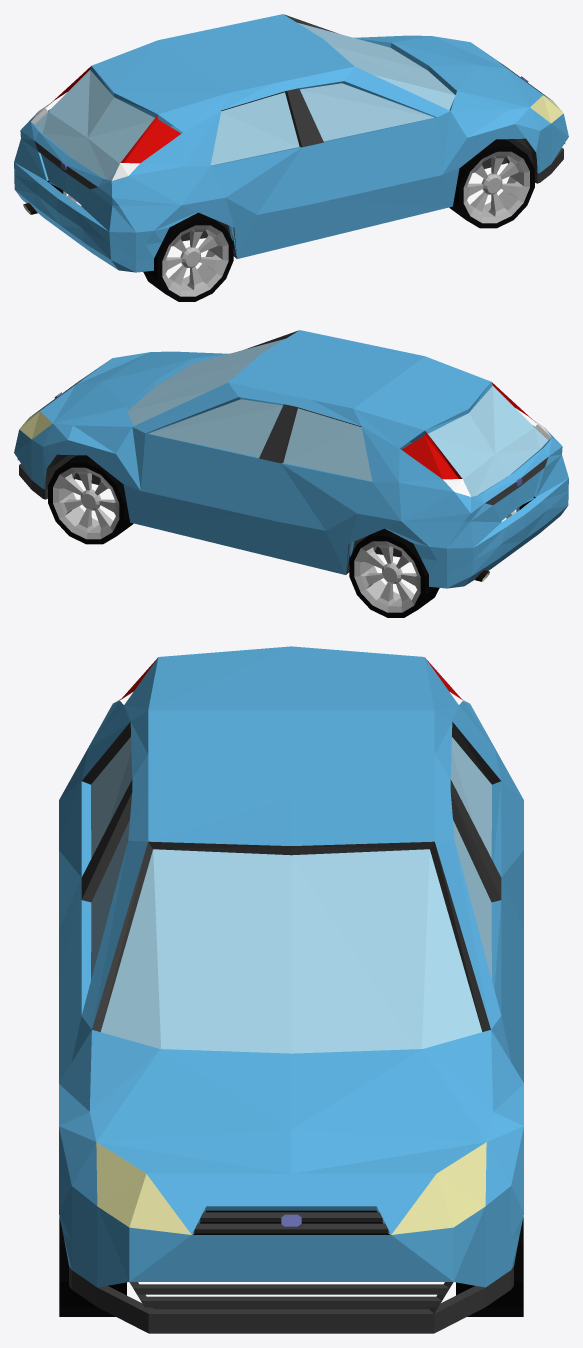
The model's file is Ford_Focus_Low_Poly.glb.
3 views of the same model, one above another, from view 1: azimuth 30°, elevation 25°; view 2: azimuth 150°, elevation 25°; view 3: azimuth 270°, elevation 25° (orthographic). The views are drawn at different scales.
Parts seen in each view (by area): view 1: Body_0, WheelR_5, WheelFR_8; view 2: Body_0, WheelR_5, WheelFL_4; view 3: Body_0, WheelFL_4, WheelFR_8.
Part boxes in pixels (bbox=[...]): Body_0: bbox=[14, 14, 568, 272]; WheelR_5: bbox=[47, 180, 233, 301]; WheelFR_8: bbox=[449, 139, 534, 228]; Body_0: bbox=[14, 330, 568, 588]; WheelR_5: bbox=[349, 496, 535, 617]; WheelFL_4: bbox=[48, 455, 133, 544]; Body_0: bbox=[59, 646, 523, 1333]; WheelFL_4: bbox=[456, 1217, 523, 1316]; WheelFR_8: bbox=[59, 1217, 126, 1316].
Size of the model in its own units: 429 by 156 by 183.
